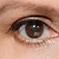eye: (26, 22, 44, 38)
